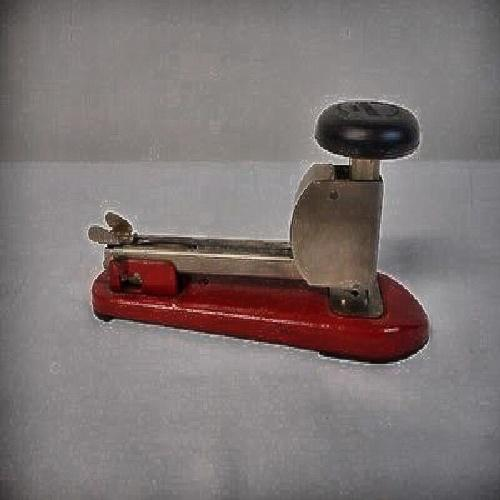stapler: (91, 98, 430, 365)
